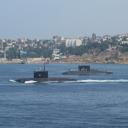submarine: (15, 63, 79, 85), (62, 65, 116, 75)
